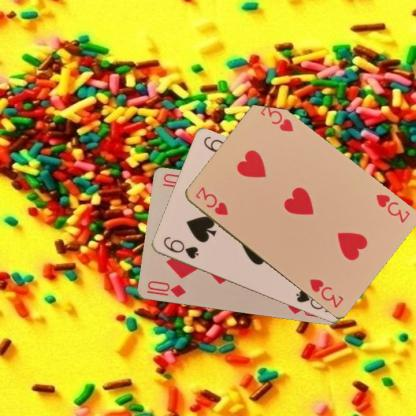10d: (144, 278, 186, 299)
3h: (371, 190, 411, 225), (192, 184, 229, 217)
6s: (160, 234, 200, 261)
